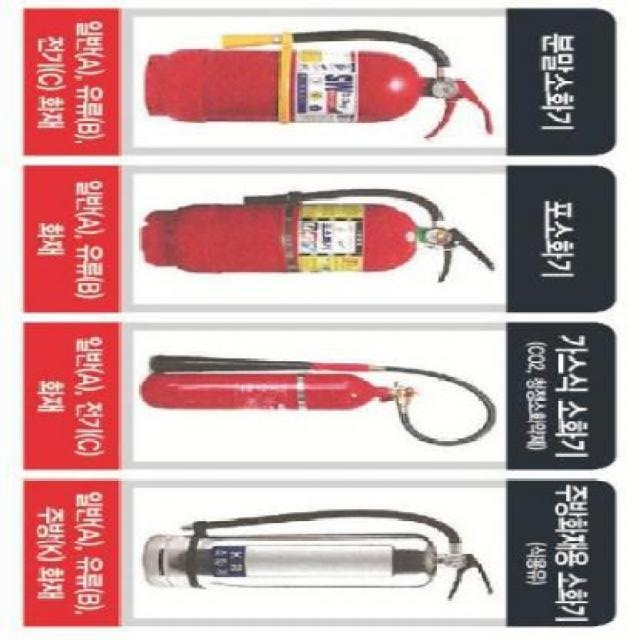fire extinguisher: (144, 29, 493, 140), (141, 187, 496, 281), (140, 356, 497, 447), (141, 509, 494, 600)
